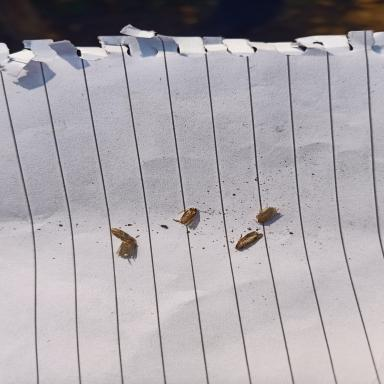pbw: (231, 231, 266, 252), (174, 206, 206, 225), (253, 206, 284, 224), (108, 227, 140, 243), (116, 240, 140, 260)
